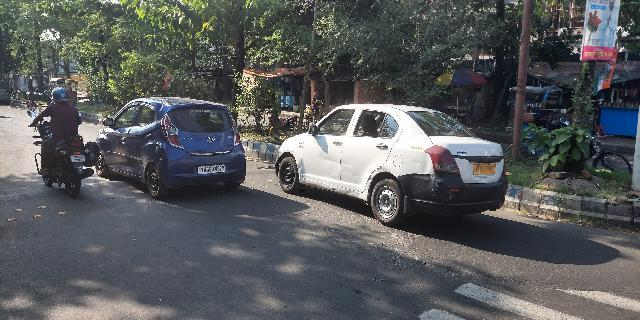Car: (268, 98, 511, 231), (98, 94, 248, 205)
Motorbike: (29, 81, 95, 199)
